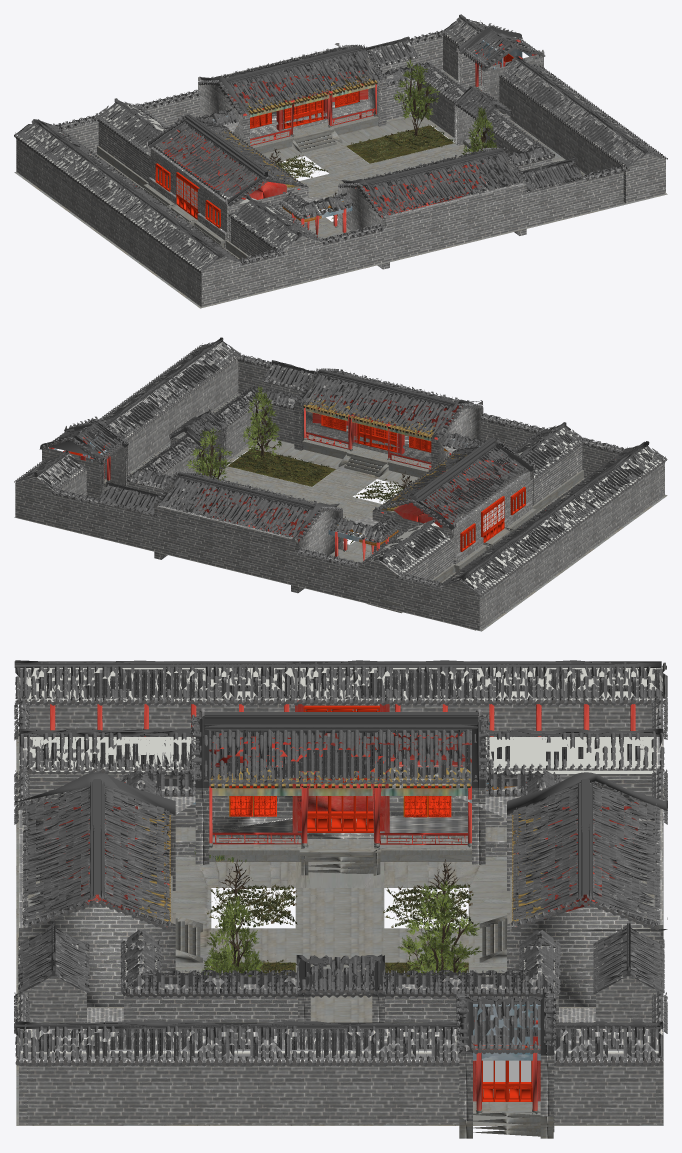
Rendered from siheyuan.glb.
The picture shows the model from 3 angles, top to bottom: view 1: azimuth 30°, elevation 25°; view 2: azimuth 150°, elevation 25°; view 3: azimuth 270°, elevation 25°; orthographic projection. The views are drawn at different scales.
Visible parts, largest first — view 1: Siheyuan Mesh; view 2: Siheyuan Mesh; view 3: Siheyuan Mesh.
Part boxes in pixels (<box>): Siheyuan Mesh: <box>14,14,667,308</box>; Siheyuan Mesh: <box>14,337,667,631</box>; Siheyuan Mesh: <box>14,660,667,1138</box>.
Bounding box in the file's own units: 17.02 × 2.8 × 11.5.
25 materials, 20 textured.
